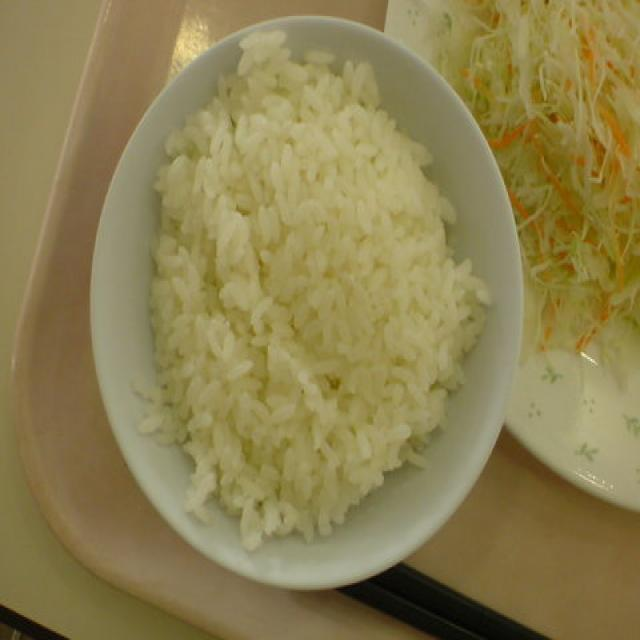rice: (133, 29, 495, 551)
